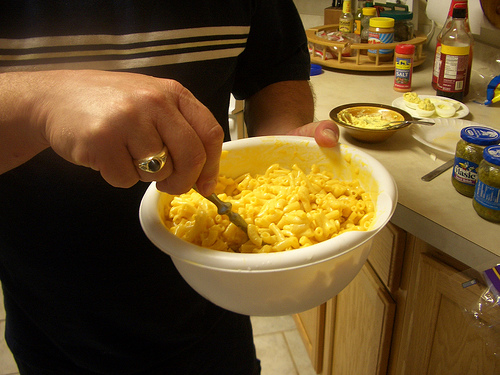macncheese: (167, 162, 384, 254)
